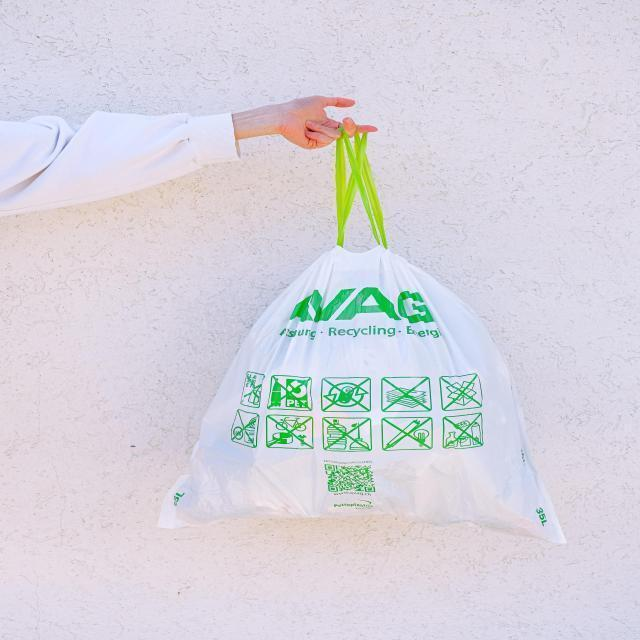Plastic_Bag: (170, 228, 546, 550)
